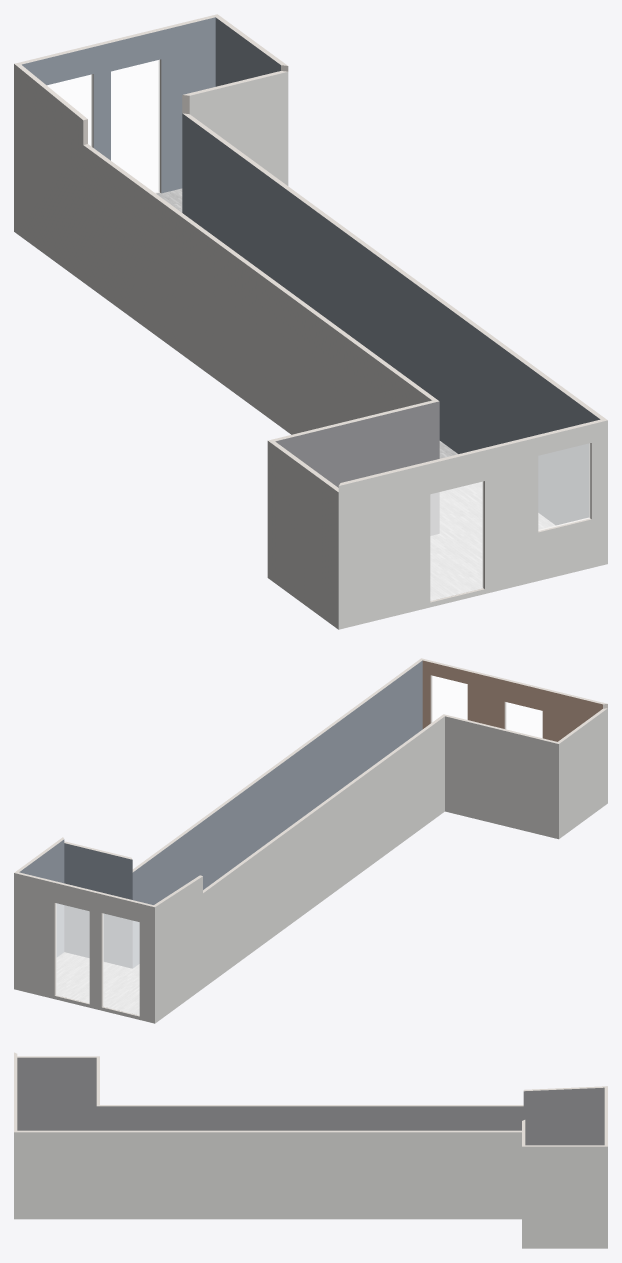
Rendered from FloorThreeWalkway.glb.
3 renders of one model, top to bottom at view 1: azimuth 30°, elevation 25°; view 2: azimuth 150°, elevation 25°; view 3: azimuth 270°, elevation 25°, orthographic. The views are drawn at different scales.
Visible parts, largest first — view 1: wall_2, wall_20, wall_1, wall_22, wall_3, wall_18, wall_0, door_2, door_5, door_0, door_3, window_0 (+10 smaller); view 2: wall_2, wall_20, wall_5, wall_7, wall_10, wall_8, wall_3, door_1, door_4, door_0, door_3, floor_Other_3 (+9 smaller); view 3: wall_6, wall_12, wall_4, wall_14, wall_21, wall_13, wall_11.
Boxes of the visible parts, x1,y1,x2,y2 form: wall_2: [14, 64, 431, 434]; wall_20: [182, 113, 600, 524]; wall_1: [338, 420, 607, 629]; wall_22: [22, 17, 215, 193]; wall_3: [267, 441, 338, 629]; wall_18: [275, 401, 439, 535]; wall_0: [189, 72, 288, 185]; door_2: [430, 482, 482, 600]; door_5: [430, 482, 482, 600]; door_0: [111, 60, 159, 192]; door_3: [111, 60, 159, 192]; window_0: [538, 443, 589, 530]; wall_2: [155, 716, 444, 1023]; wall_20: [132, 660, 422, 967]; wall_5: [445, 716, 558, 839]; wall_7: [14, 873, 154, 1023]; wall_10: [422, 660, 602, 741]; wall_8: [64, 843, 132, 968]; wall_3: [559, 708, 607, 838]; door_1: [103, 913, 139, 1015]; door_4: [103, 914, 139, 1014]; door_0: [56, 903, 89, 1002]; door_3: [56, 903, 89, 1002]; floor_Other_3: [56, 952, 139, 1015]; wall_6: [14, 1132, 521, 1219]; wall_12: [96, 1087, 604, 1145]; wall_4: [522, 1146, 607, 1248]; wall_14: [17, 1057, 96, 1130]; wall_21: [14, 1130, 521, 1132]; wall_13: [97, 1086, 606, 1106]; wall_11: [14, 1052, 17, 1131].
Bounding box in the file's own units: 7.92 × 3.46 × 18.24.
22 materials, 3 textured.
